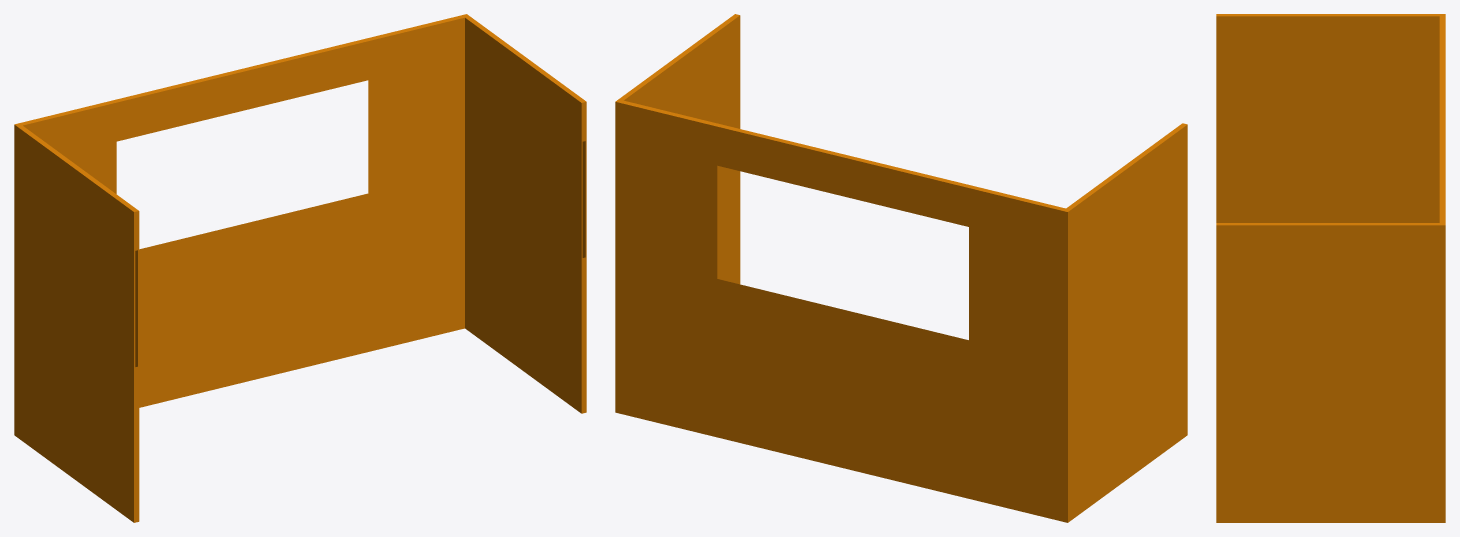
File: Wall.gltf
3 views of the same model, side by side, from view 1: azimuth 30°, elevation 25°; view 2: azimuth 150°, elevation 25°; view 3: azimuth 270°, elevation 25° (orthographic). The views are drawn at different scales.
Parts seen in each view (by area): view 1: 立方体, 立方体.002, 立方体.001; view 2: 立方体, 立方体.002, 立方体.001; view 3: 立方体.001, 立方体.002, 立方体.
Part boxes in pixels (x1=…): 立方体: x1=14, y1=14, x2=469, y2=436; 立方体.002: x1=17, y1=125, x2=139, y2=522; 立方体.001: x1=465, y1=16, x2=586, y2=413; 立方体: x1=615, y1=99, x2=1070, y2=522; 立方体.002: x1=1066, y1=123, x2=1187, y2=520; 立方体.001: x1=619, y1=14, x2=740, y2=284; 立方体.001: x1=1216, y1=223, x2=1439, y2=522; 立方体.002: x1=1216, y1=14, x2=1439, y2=222; 立方体: x1=1439, y1=14, x2=1445, y2=522.
Bounding box in the file's own units: 32 × 21 × 14.68.
